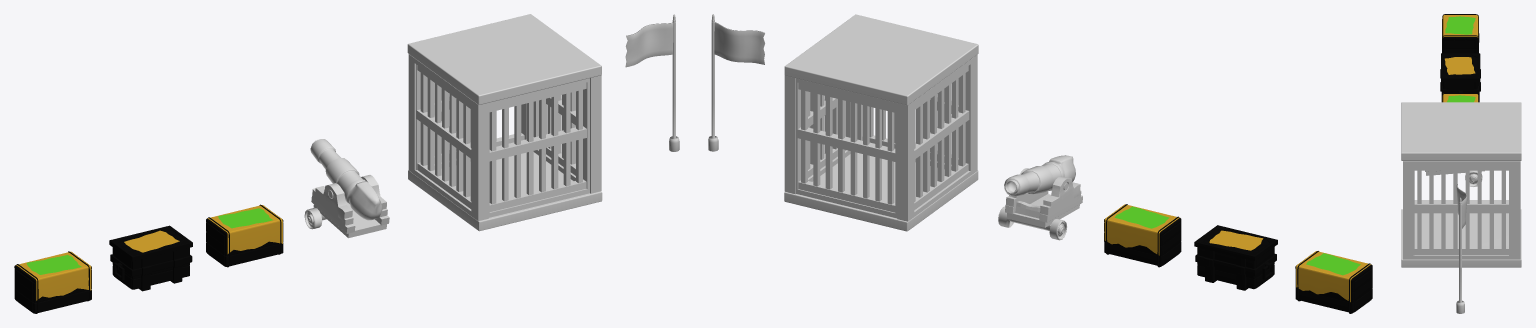
The model's file is props 2.fbx.
3 views of the same model, side by side, from view 1: azimuth 30°, elevation 25°; view 2: azimuth 150°, elevation 25°; view 3: azimuth 270°, elevation 25° (orthographic). The views are drawn at different scales.
Parts seen in each view (by area): view 1: jail_cell, cannonball_crate, fruit_crate, storage_crate, cannon_base, cannon_barrel, pirate_flag, jail_cell_door; view 2: jail_cell, jail_cell_door, cannonball_crate, storage_crate, fruit_crate, cannon_base, pirate_flag, cannon_barrel; view 3: jail_cell, cannonball_crate, fruit_crate, pirate_flag, storage_crate, cannon_base.
Part boxes in pixels (bbox=[...]): jail_cell: bbox=[407, 14, 602, 231]; cannonball_crate: bbox=[109, 225, 192, 291]; fruit_crate: bbox=[14, 251, 91, 313]; storage_crate: bbox=[206, 204, 283, 267]; cannon_base: bbox=[304, 175, 389, 238]; cannon_barrel: bbox=[310, 139, 382, 220]; pirate_flag: bbox=[625, 14, 679, 151]; jail_cell_door: bbox=[416, 64, 526, 169]; jail_cell: bbox=[784, 14, 978, 231]; jail_cell_door: bbox=[796, 78, 897, 218]; cannonball_crate: bbox=[1194, 225, 1277, 290]; storage_crate: bbox=[1104, 204, 1181, 267]; fruit_crate: bbox=[1295, 251, 1372, 313]; cannon_base: bbox=[998, 168, 1082, 240]; pirate_flag: bbox=[708, 14, 764, 151]; cannon_barrel: bbox=[1004, 155, 1075, 196]; jail_cell: bbox=[1401, 102, 1521, 267]; cannonball_crate: bbox=[1440, 53, 1480, 102]; fruit_crate: bbox=[1442, 14, 1479, 53]; pirate_flag: bbox=[1456, 184, 1467, 313]; storage_crate: bbox=[1442, 93, 1478, 102]; cannon_base: bbox=[1425, 170, 1484, 186].
Size of the model in its own units: 1673 by 335 by 316.
